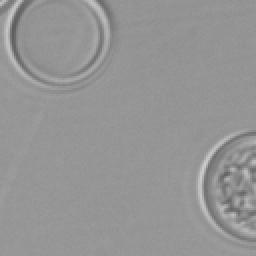picoshell: (4, 0, 114, 90), (196, 130, 256, 247)
